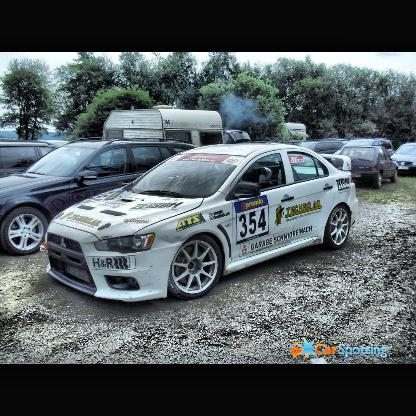Mitsubishi Lancer Sedan 2012: (45, 144, 362, 304)
